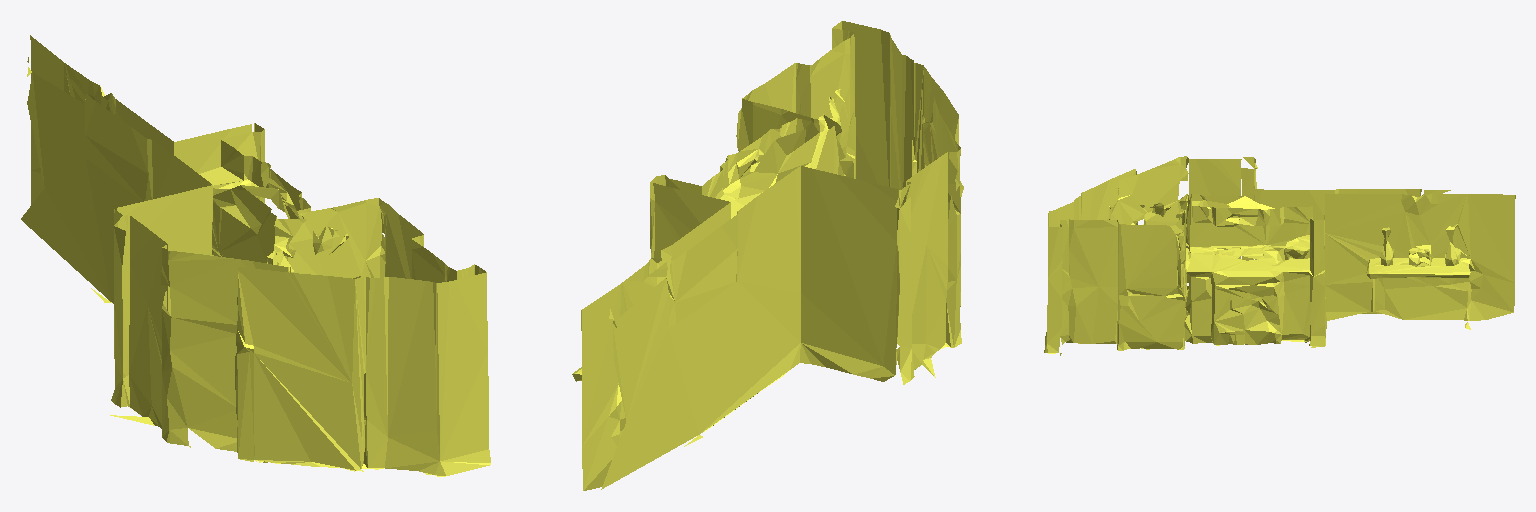
robot.urdf — env.urdf:
<?xml version="0.0" ?>
<robot name="env.urdf">
  <link name="baseLink">
    <contact>
      <lateral_friction value="1.0"/>
      <rolling_friction value="0.0"/>
      <contact_cfm value="0.0"/>
      <contact_erp value="1.0"/>
    </contact>
    <inertial>
      <origin rpy="0 0 0" xyz="0.0 0.02 0.0"/>
       <mass value="0"/>
       <inertia ixx="1" ixy="0" ixz="0" iyy="1" iyz="0" izz="1"/>
    </inertial>
    <visual>
      <origin rpy="0 0 0" xyz="0 0 0"/>
      <geometry>
        <mesh filename="kitchen2.obj" scale="1 1 1"/>
      </geometry>
       <material name="yellow">
        <color rgba="1 1 0.4 1"/>
      </material>
    </visual>
    <collision>
      <origin rpy="0 0 0" xyz="0 0 0"/>
      <geometry>
	 	<mesh filename="kitchen2.obj" scale="1 1 1"/>
      </geometry>
    </collision>
  </link>
</robot>

--- Render facts (derived) ---
3 views of the same robot in one strip: view 1: azimuth 30°, elevation 25°; view 2: azimuth 150°, elevation 25°; view 3: azimuth 270°, elevation 25° (orthographic).
Model env.urdf with 1 links and 0 joints (none), rooted at baseLink, posed every joint at zero.
Visible links, largest first — view 1: baseLink; view 2: baseLink; view 3: baseLink.
Boxes of the visible links, bbox=[...] form: baseLink: bbox=[21, 35, 490, 476]; baseLink: bbox=[572, 21, 963, 490]; baseLink: bbox=[1044, 156, 1515, 355].
Bounding box of the posed robot: 1.97 × 5.1 × 1.54 m (x, y, z).
1 mesh visuals loaded from 1 distinct referenced files (1 OBJ).